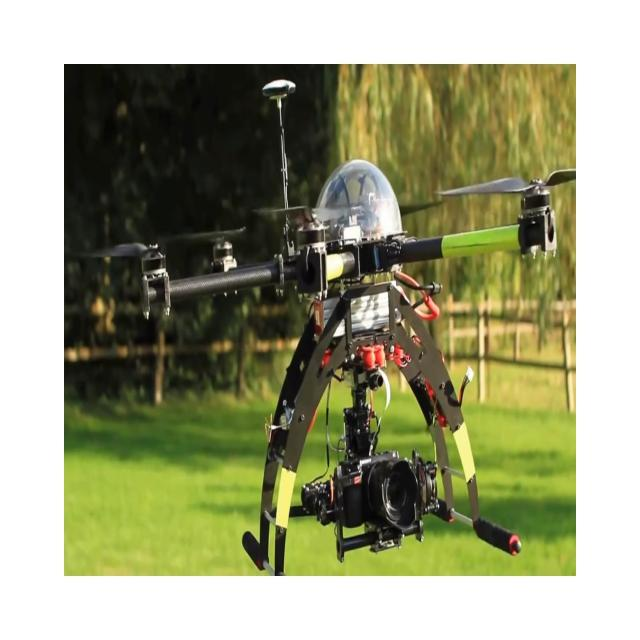drone: (73, 76, 575, 574)
